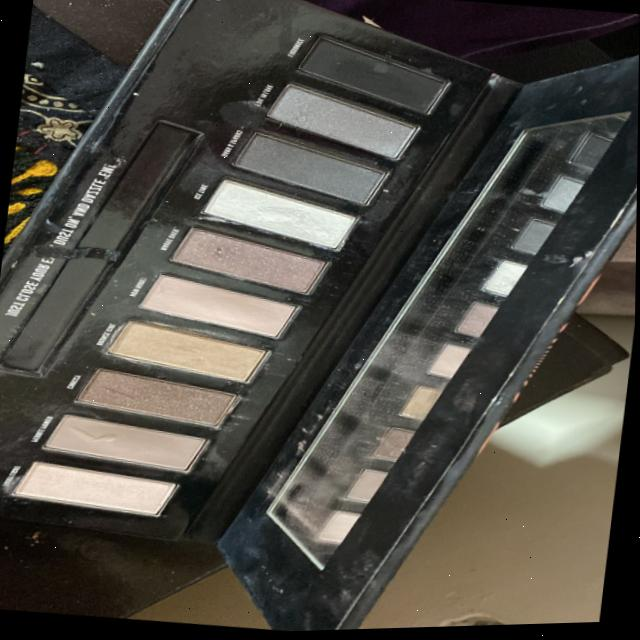eye shade: (276, 35, 470, 119)
highlighter: (221, 114, 432, 217), (230, 81, 447, 164), (44, 359, 258, 437), (93, 314, 291, 394), (142, 224, 352, 296), (0, 454, 196, 531), (194, 175, 371, 258), (31, 409, 216, 483), (117, 272, 298, 345)
